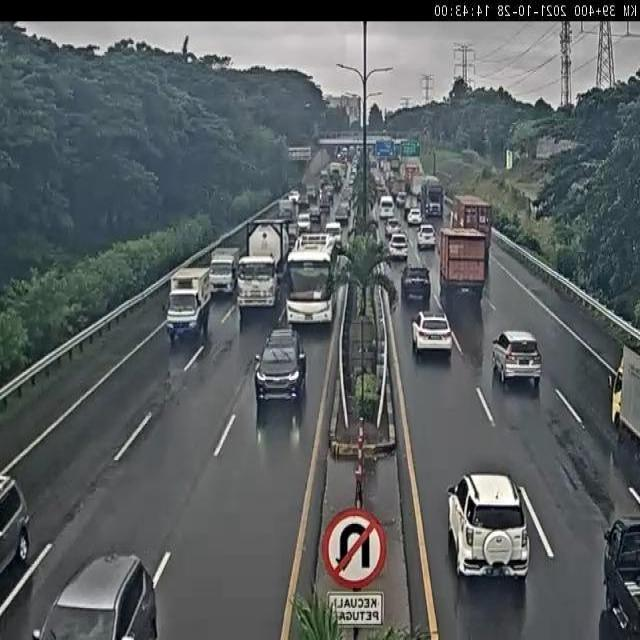Bus: (282, 235, 342, 330)
Car: (434, 465, 534, 587), (44, 545, 157, 640), (593, 518, 638, 640), (0, 477, 36, 588), (254, 332, 310, 400), (491, 328, 547, 388), (409, 310, 456, 358), (399, 263, 432, 300), (416, 222, 435, 249), (388, 234, 408, 258), (295, 213, 314, 234), (384, 218, 401, 237), (408, 208, 424, 227)
Truck: (230, 221, 287, 313), (599, 340, 639, 466), (162, 269, 212, 344), (436, 230, 489, 296), (450, 194, 499, 236), (207, 248, 246, 292), (420, 174, 449, 220)
Van: (378, 196, 395, 222)
